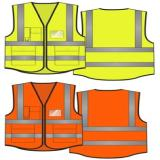Vest: (2, 1, 88, 75), (72, 7, 156, 82), (3, 81, 84, 152), (68, 89, 148, 160)
